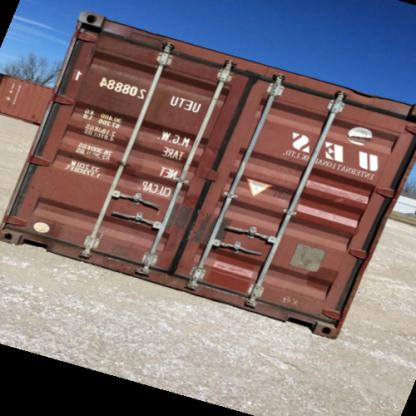Damage: (164, 208, 234, 247), (150, 86, 183, 129), (100, 240, 142, 272), (78, 11, 112, 39), (346, 84, 378, 106), (349, 124, 374, 152), (330, 189, 350, 208)
